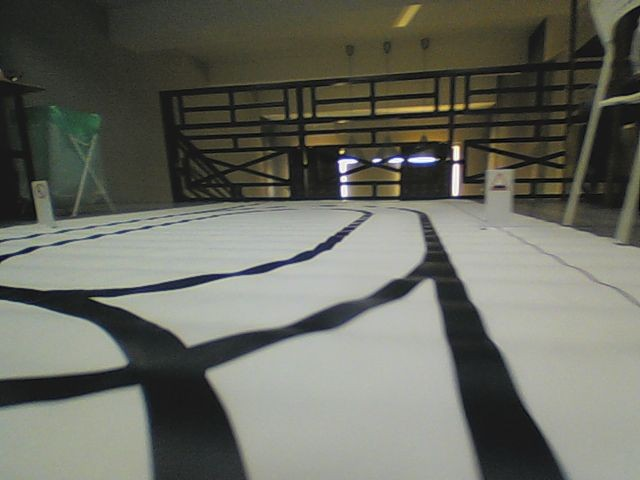Nerov: (489, 172, 509, 192)
